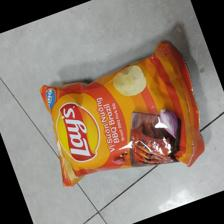Lays: (37, 38, 205, 187)
